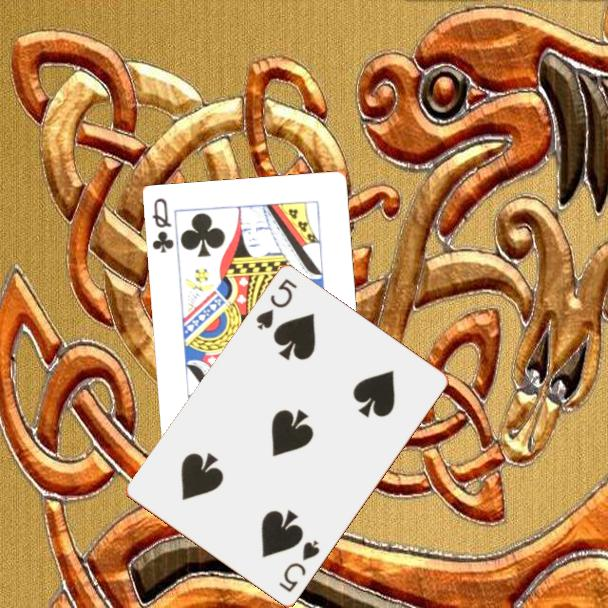c12: (149, 195, 177, 256)
s05: (252, 275, 300, 333), (276, 537, 323, 596)
